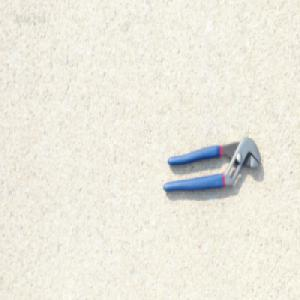Pliers: (162, 133, 262, 193)
